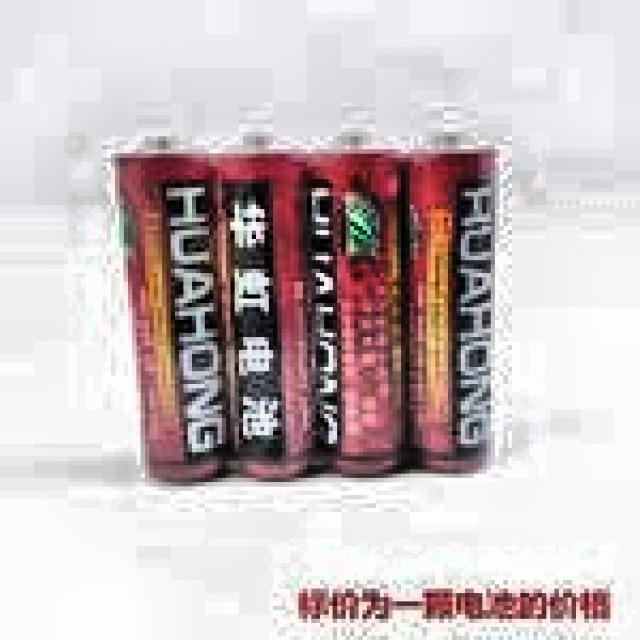Non-Valuable Waste - Batteries: (117, 150, 493, 480)
